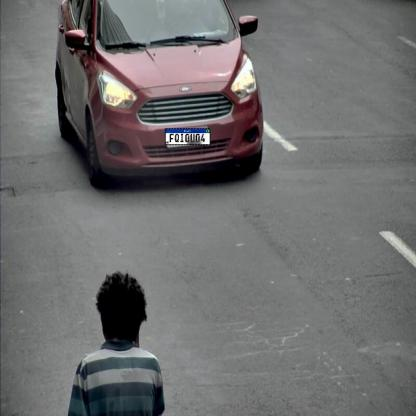PlacaM: (164, 128, 210, 145)
